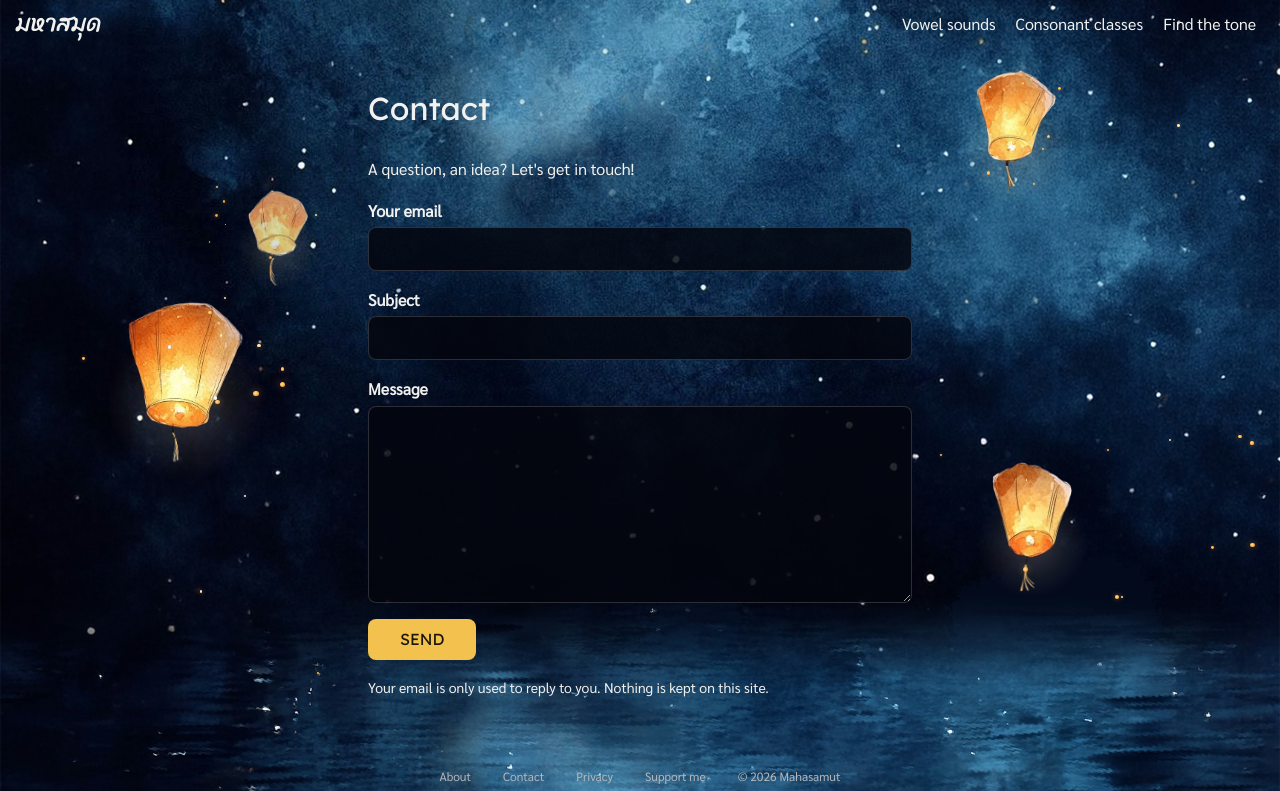
Test: ContactPage › shows a field error the service found
Type " me@example.com " into the field labelled "Your email" at (640, 249), box [368,227,912,271]
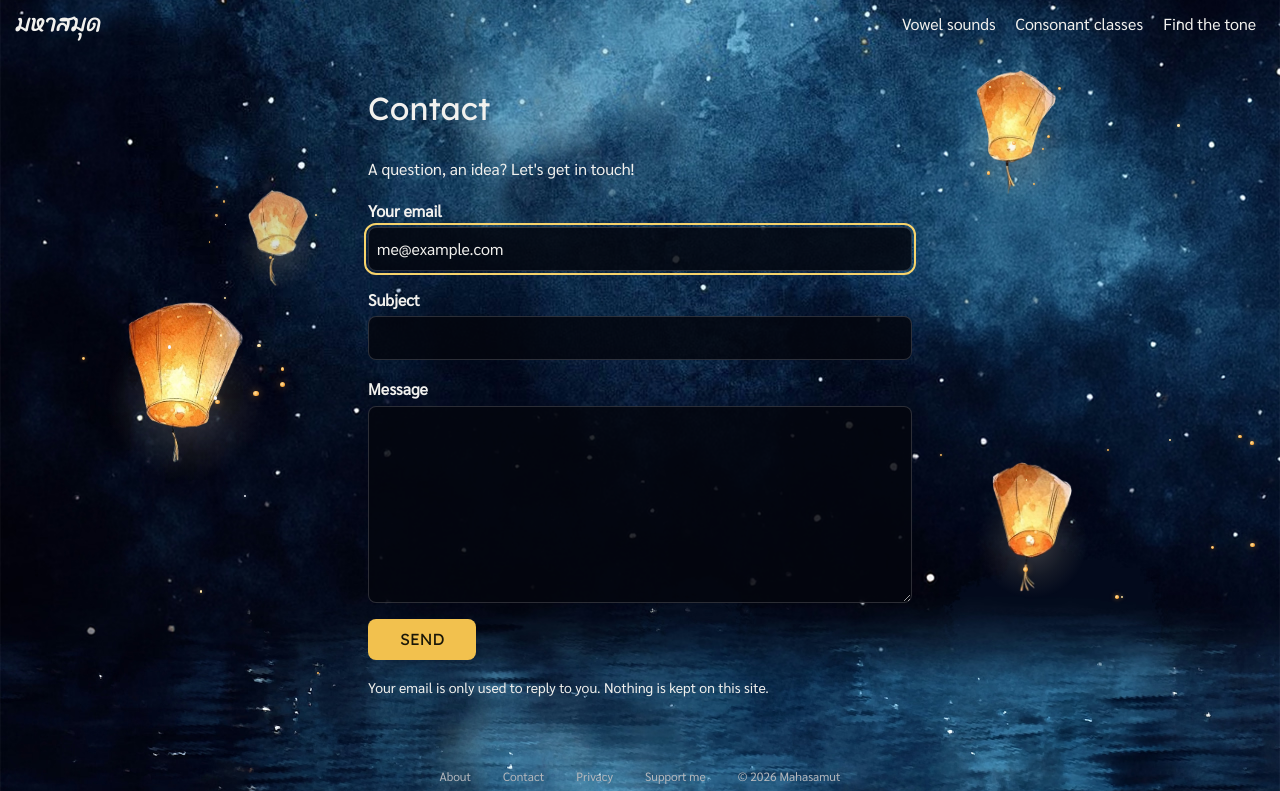
Type " Hello " into the field labelled "Subject" at (640, 338), box [368,316,912,360]
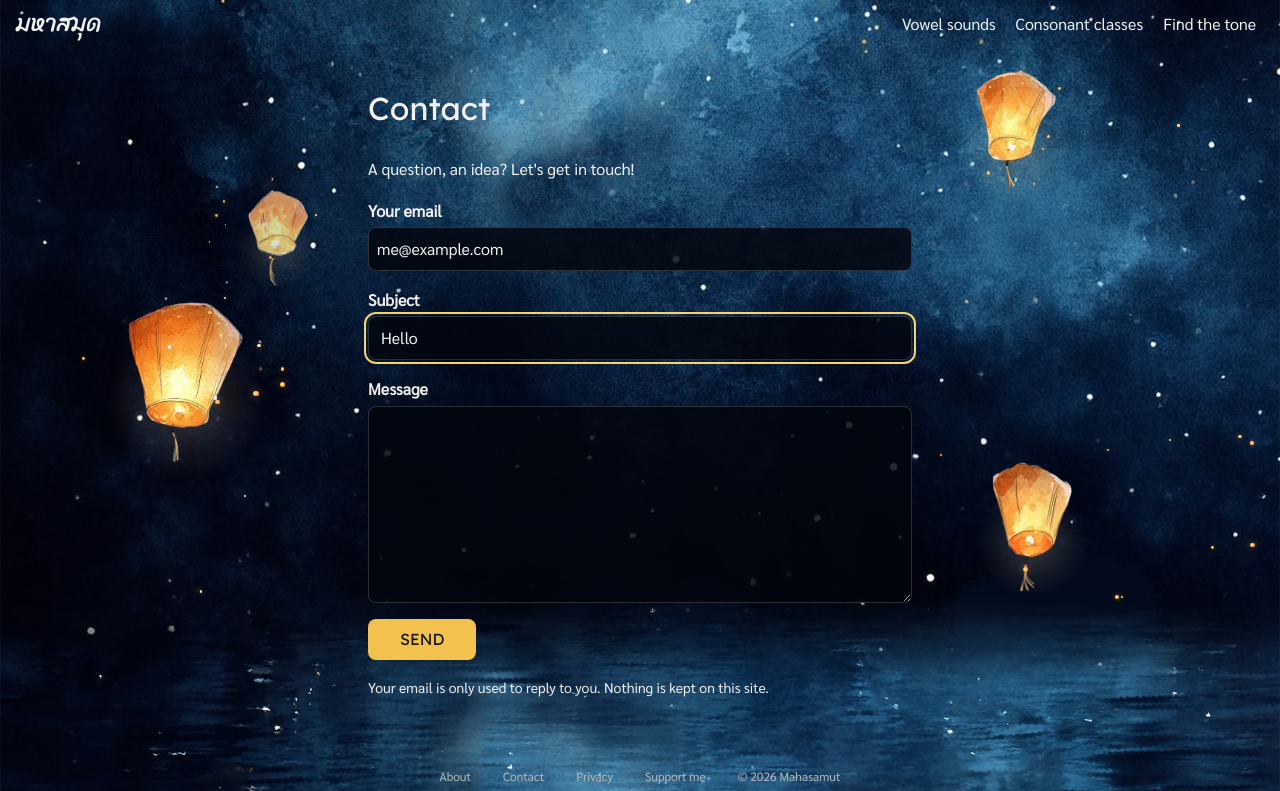
Type " A question. " into the text box labelled "Message" at (640, 504), box [368,406,912,603]
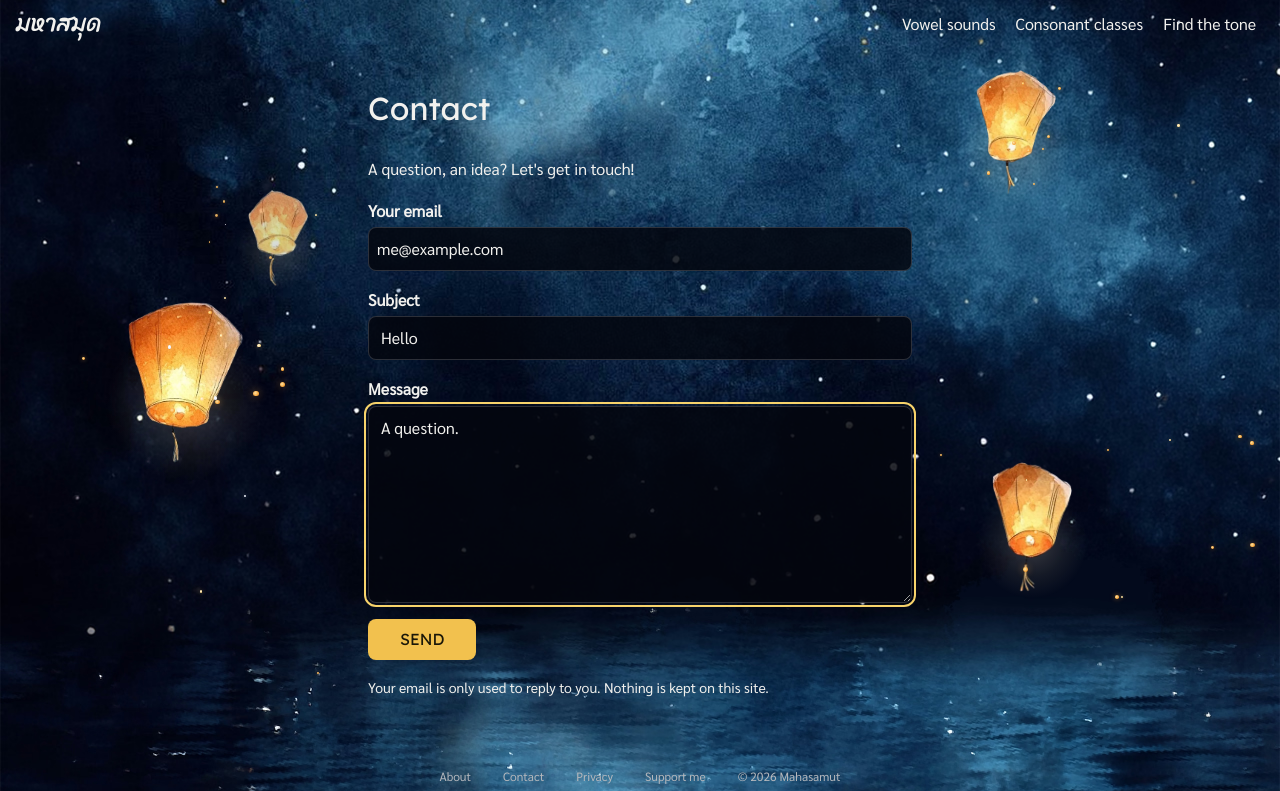
Click the button "Send" at (422, 640), box [368,619,476,660]
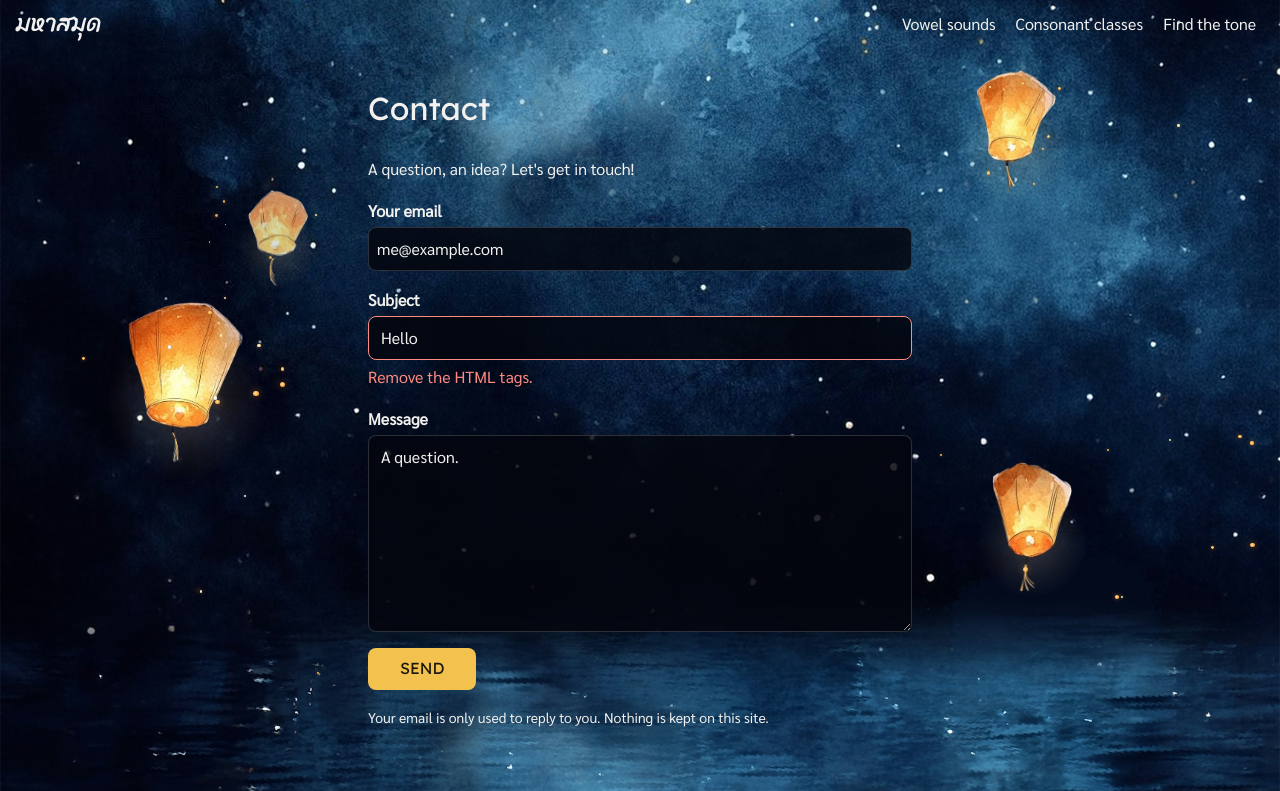
Check: the text "Remove the HTML tags." is shown, box [368,366,533,387]
